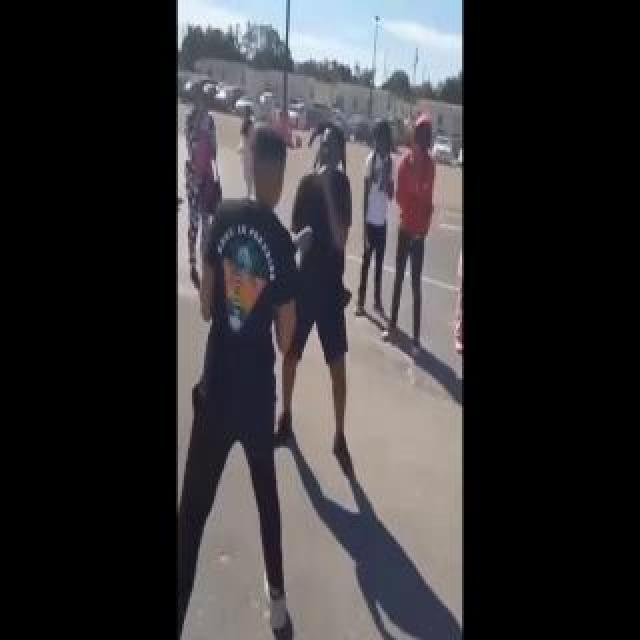fight: (219, 119, 351, 529)
